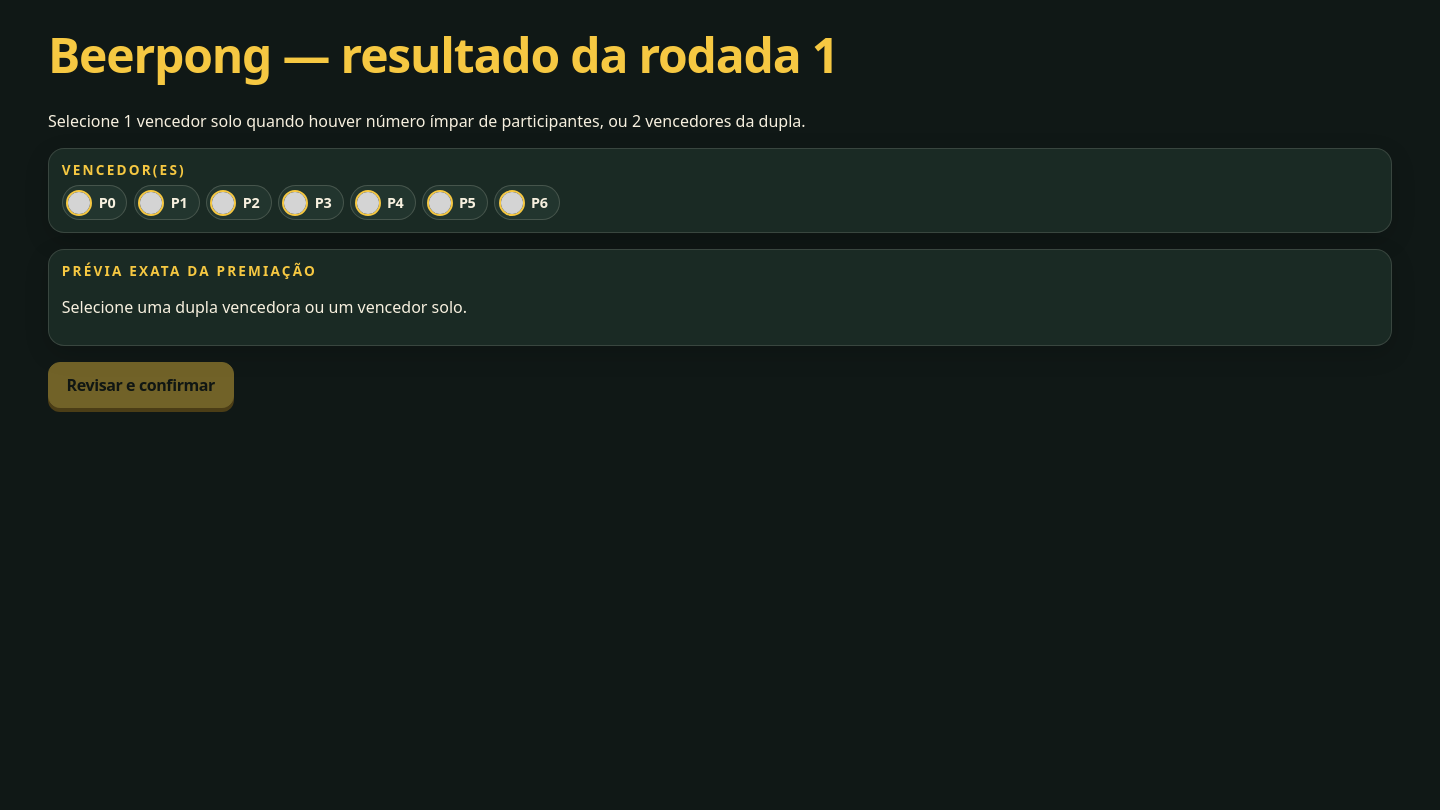
Test case: MinigamePanel modern rules › leaves review mode when a selection is corrected
The image size is (1440, 810).
Click the button "P0": (95,203) 62,185 -> 128,220
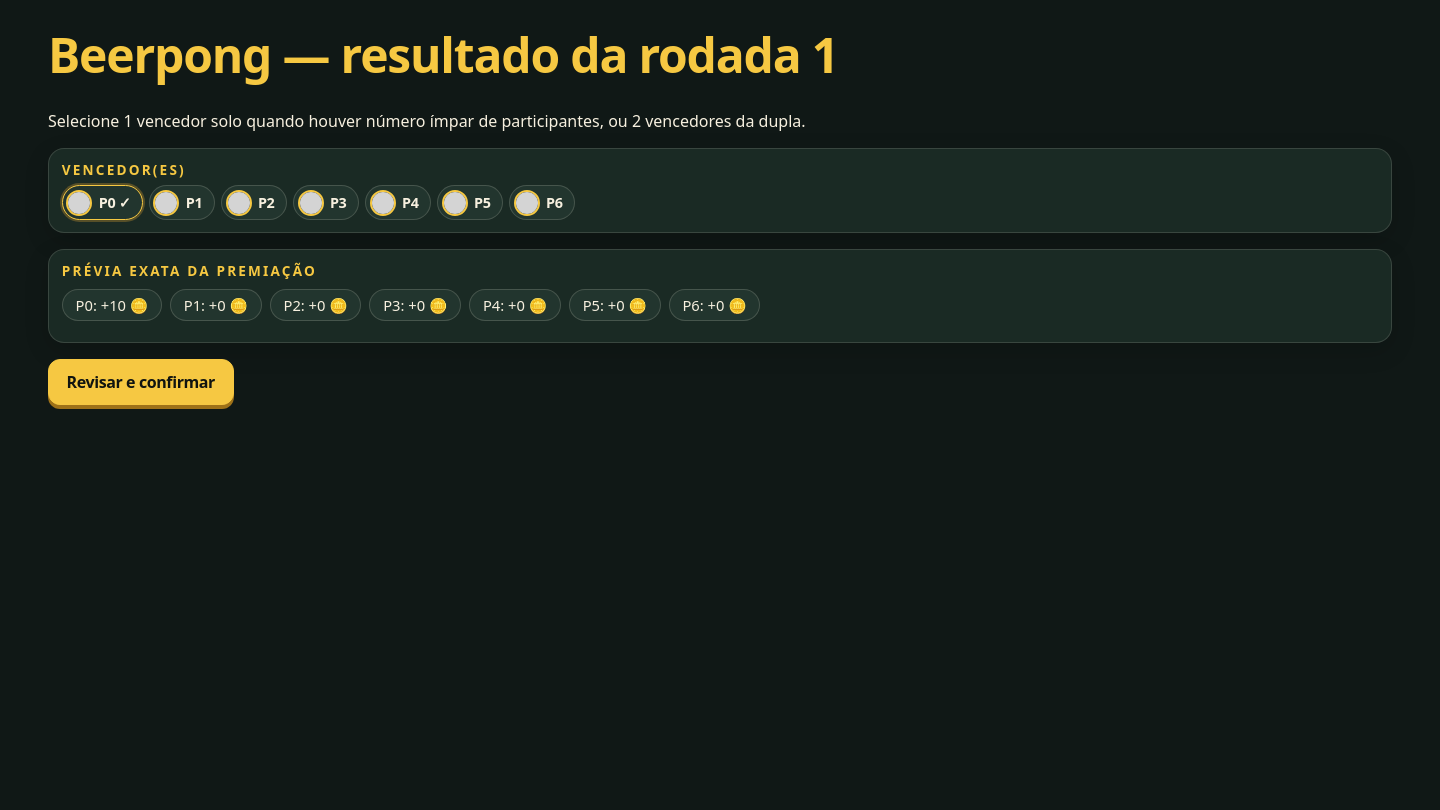
Click the button "Revisar e confirmar": (141,382) 48,359 -> 234,405
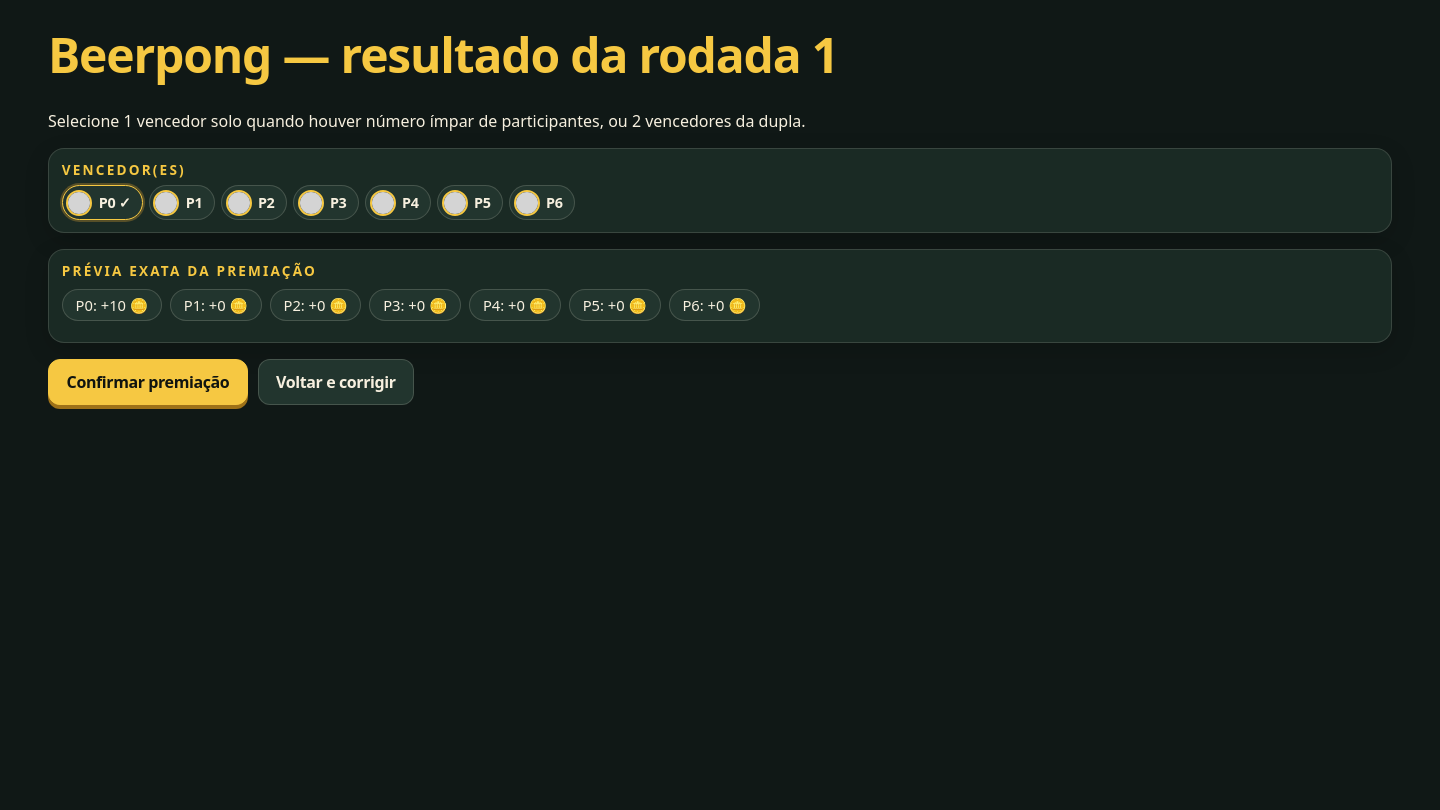
Result: the button "Confirmar premiação" is shown at 48,359 -> 248,405
Click the button "P0 ✓": (102,203) 62,185 -> 143,220
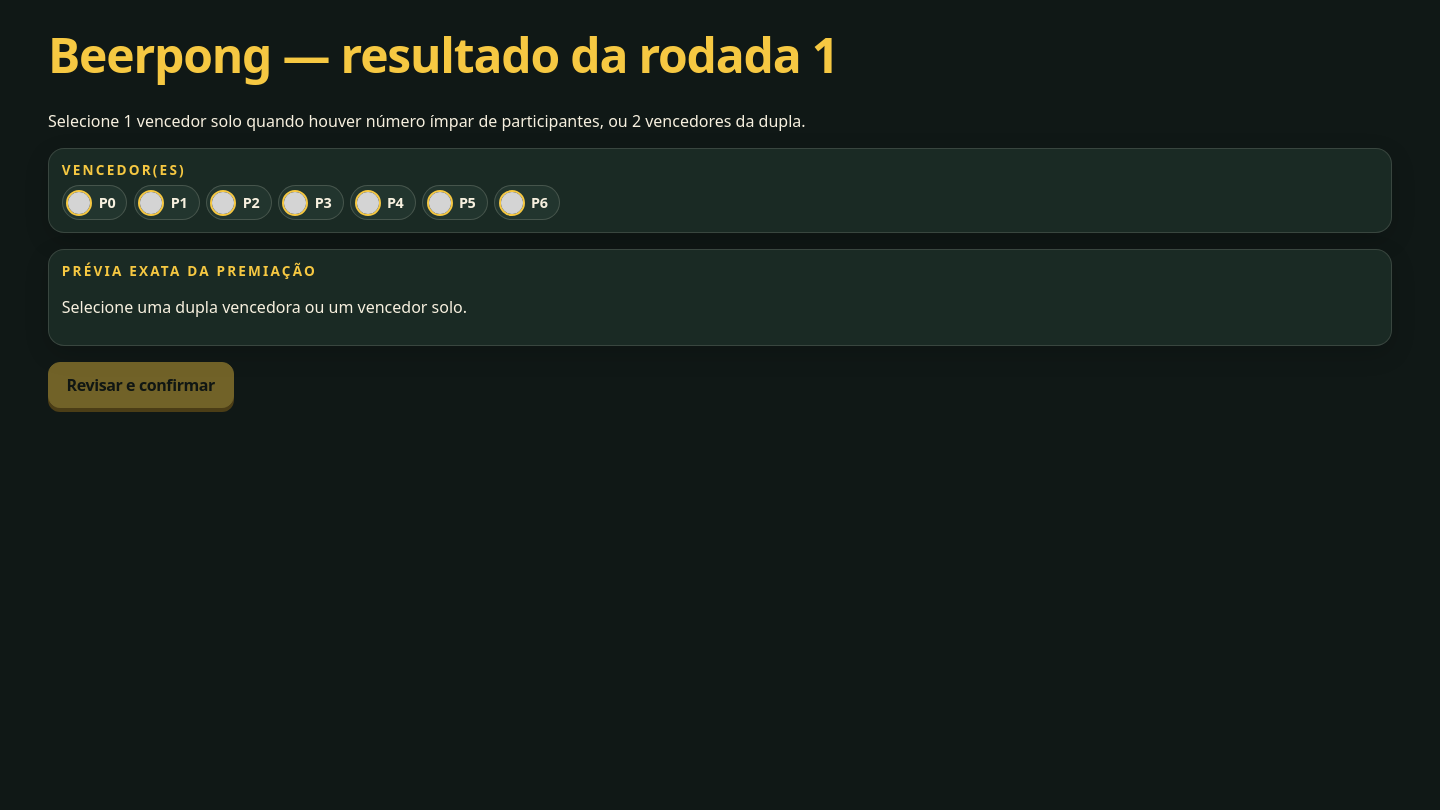
Result: the button "Confirmar premiação" is gone
Result: the button "Revisar e confirmar" is disabled at 48,362 -> 234,408
